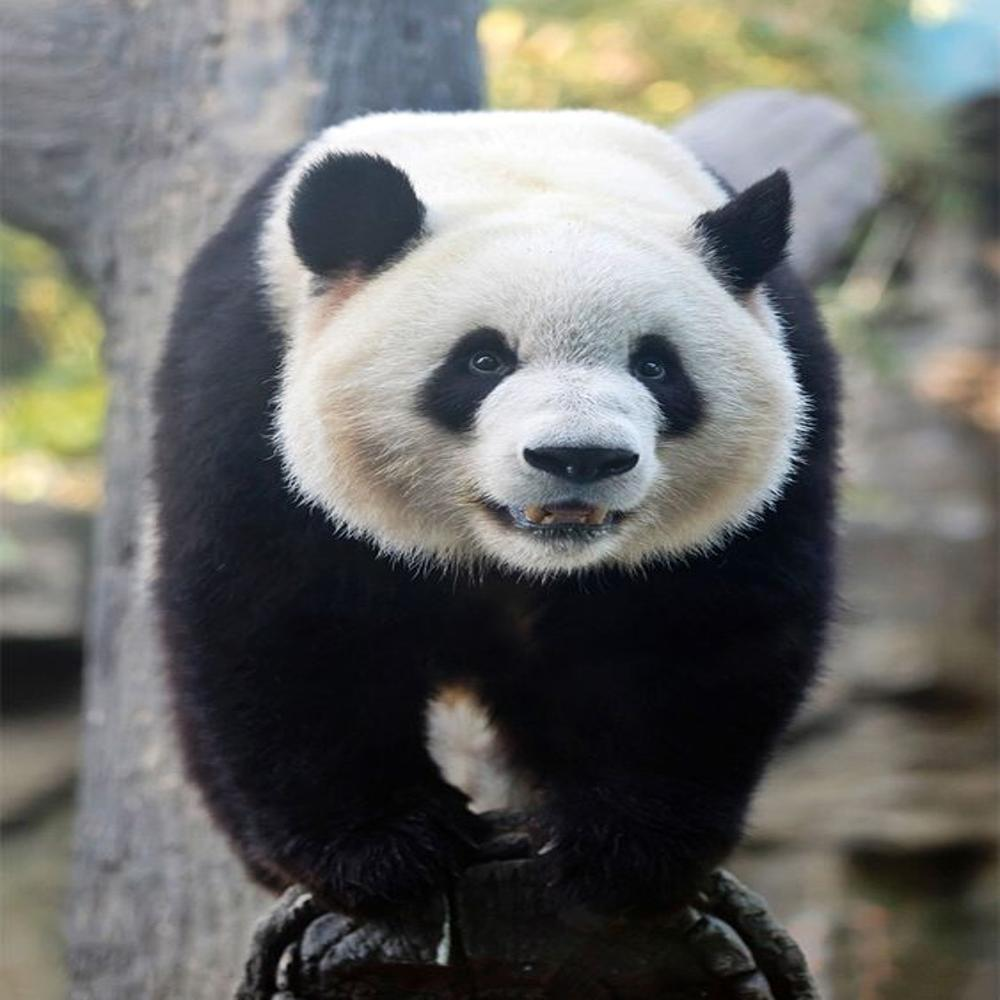panda: (156, 104, 810, 982)
